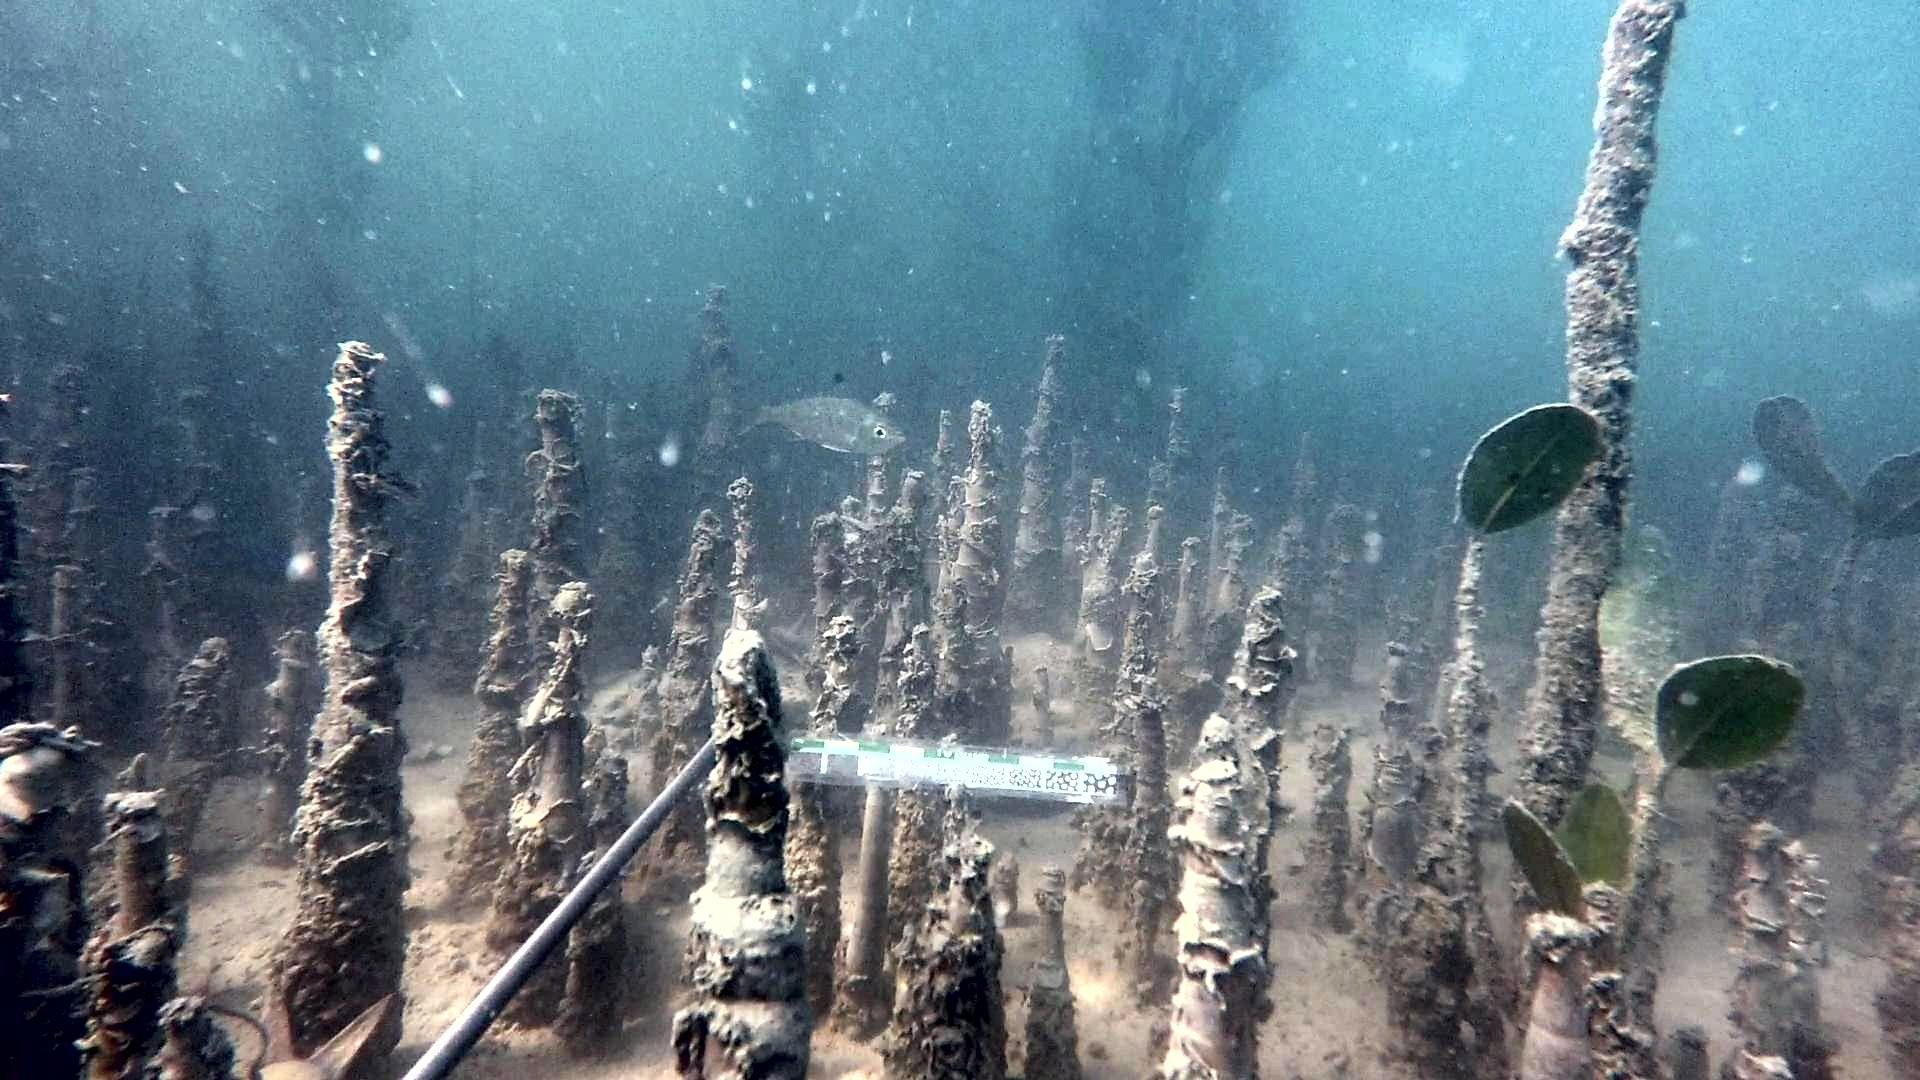gerres: (733, 369, 907, 458)
